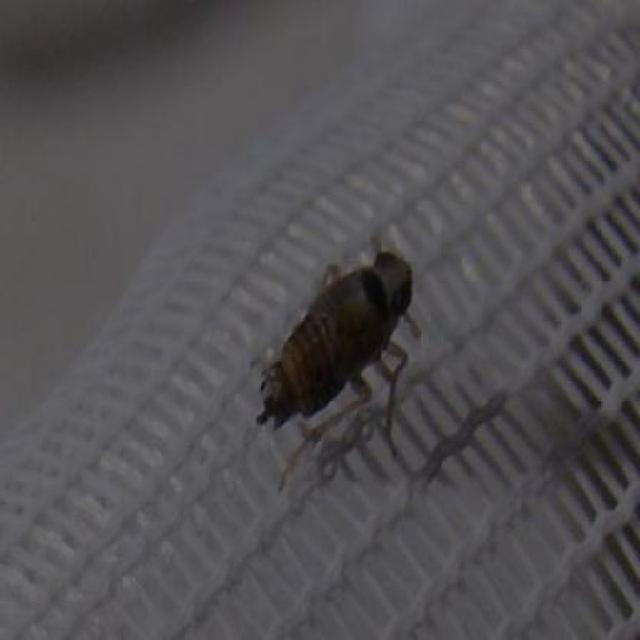brown-planthopper: (256, 243, 421, 439)
